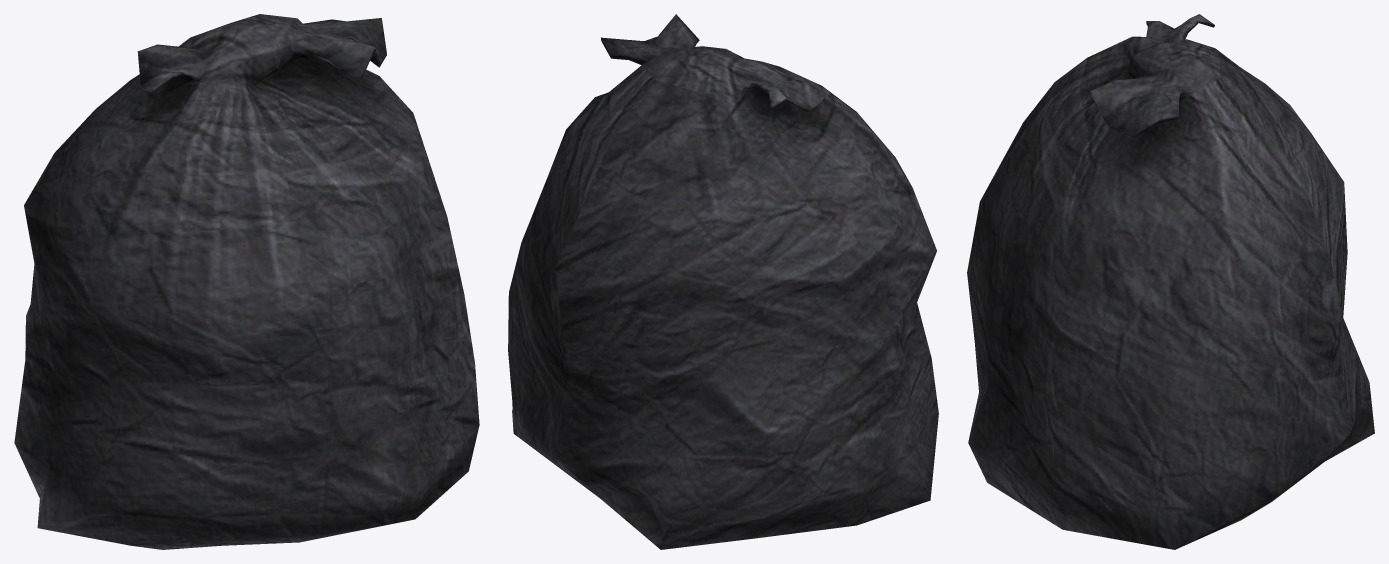
The model's file is garbageBag03.FBX.
The picture shows the model from 3 angles, left to right: view 1: azimuth 30°, elevation 25°; view 2: azimuth 150°, elevation 25°; view 3: azimuth 270°, elevation 25°; orthographic projection. The views are drawn at different scales.
Parts seen in each view (by area): view 1: SM_GarbageBag04; view 2: SM_GarbageBag04; view 3: SM_GarbageBag04.
Boxes of the visible parts, x1=… form: SM_GarbageBag04: x1=14, y1=14, x2=479, y2=549; SM_GarbageBag04: x1=508, y1=14, x2=938, y2=549; SM_GarbageBag04: x1=967, y1=14, x2=1374, y2=549.
Size of the model in its own units: 54.07 by 55.22 by 46.82.
1 material, 1 textured.
